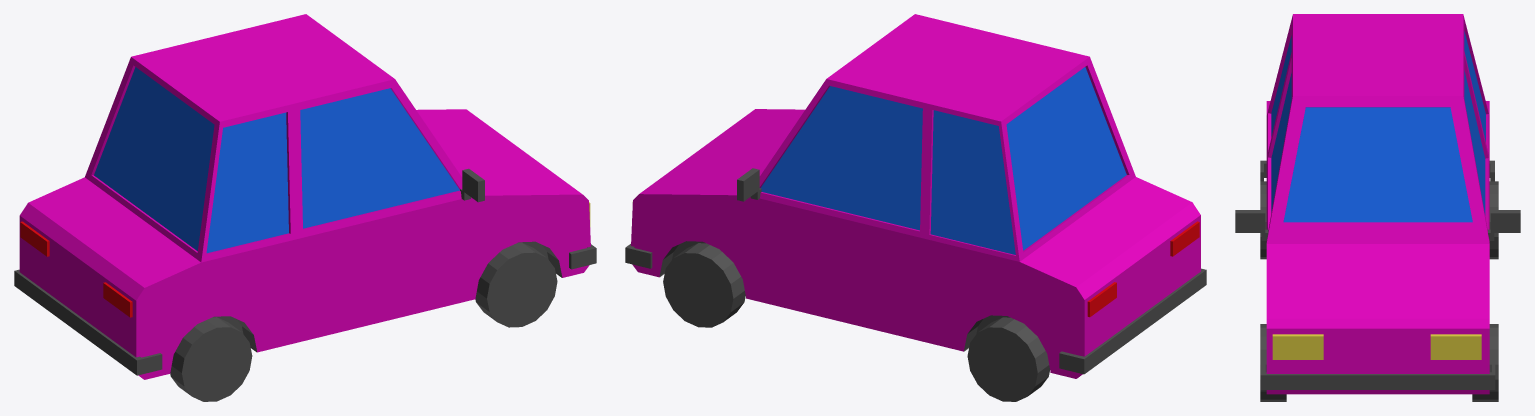
Rendered from car.gltf.
3 renders of one model, left to right at view 1: azimuth 30°, elevation 25°; view 2: azimuth 150°, elevation 25°; view 3: azimuth 270°, elevation 25°, orthographic. The views are drawn at different scales.
Parts seen in each view (by area): view 1: car; view 2: car; view 3: car.
Part boxes in pixels (box(x1,y1,x2,y2)): car: box(14, 14, 596, 401); car: box(625, 14, 1206, 401); car: box(1235, 14, 1520, 401).
Bounding box in the file's own units: 6.12 × 3.34 × 3.44.
